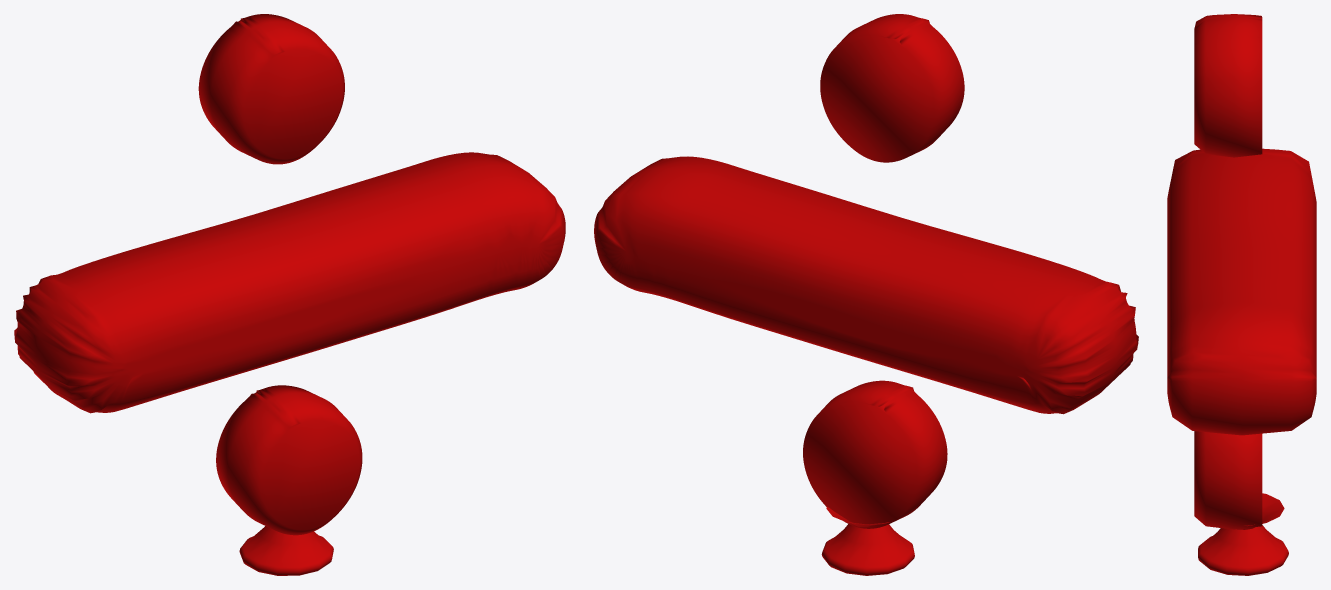
Rendered from delenie.FBX.
3 renders of one model, left to right at view 1: azimuth 30°, elevation 25°; view 2: azimuth 150°, elevation 25°; view 3: azimuth 270°, elevation 25°, orthographic. The views are drawn at different scales.
Parts seen in each view (by area): view 1: Text031; view 2: Text031; view 3: Text031.
Boxes of the visible parts, x1,y1,x2,y2 form: Text031: [14, 14, 565, 575]; Text031: [594, 14, 1138, 575]; Text031: [1167, 14, 1316, 575].
Size of the model in its own units: 68.5 by 70.27 by 18.02.
